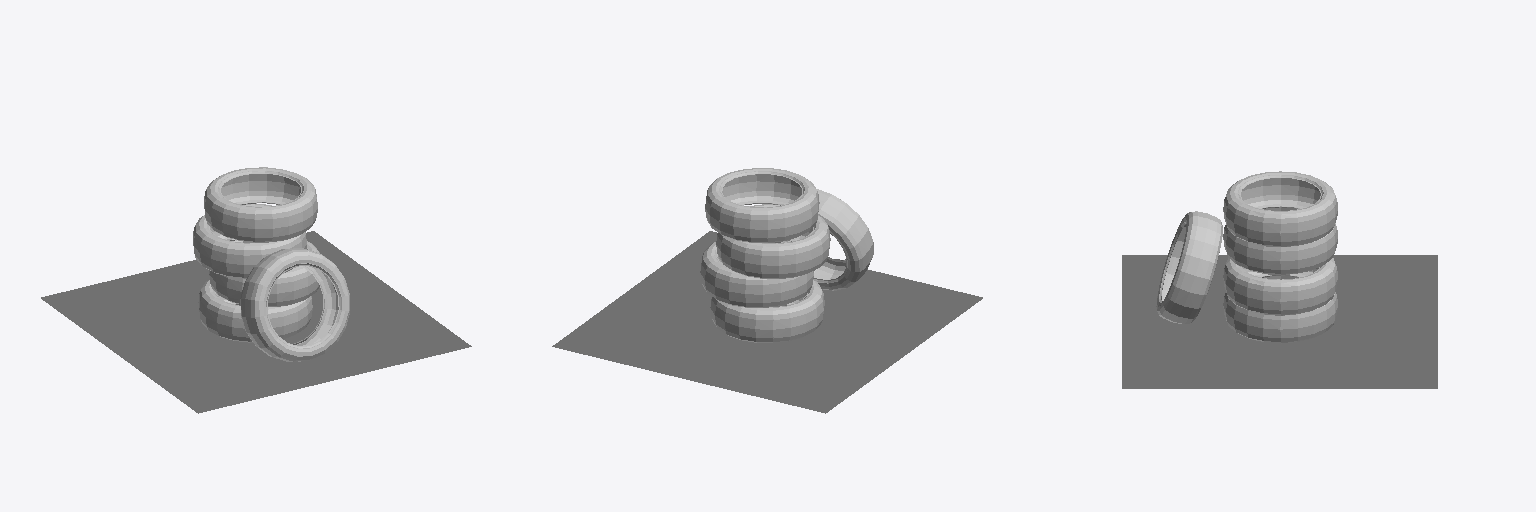
File: Llanta.obj
3 renders of one model, left to right at view 1: azimuth 30°, elevation 25°; view 2: azimuth 150°, elevation 25°; view 3: azimuth 270°, elevation 25°, orthographic.
Parts seen in each view (by area): view 1: pPlane2; view 2: pPlane2; view 3: pPlane2.
Part boxes in pixels (bbox=[...]): pPlane2: bbox=[41, 167, 471, 413]; pPlane2: bbox=[552, 168, 982, 413]; pPlane2: bbox=[1122, 171, 1437, 388].
Size of the model in its own units: 0.2992 by 0.1388 by 0.2992.